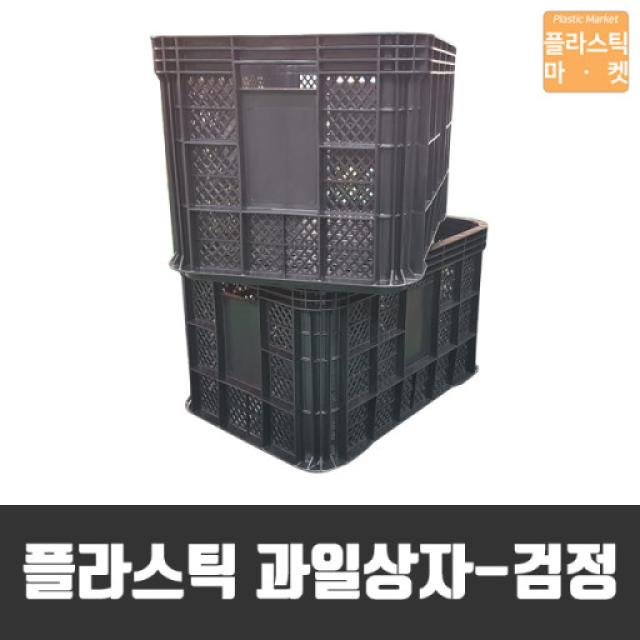basket: (182, 218, 493, 474), (149, 29, 456, 285)
